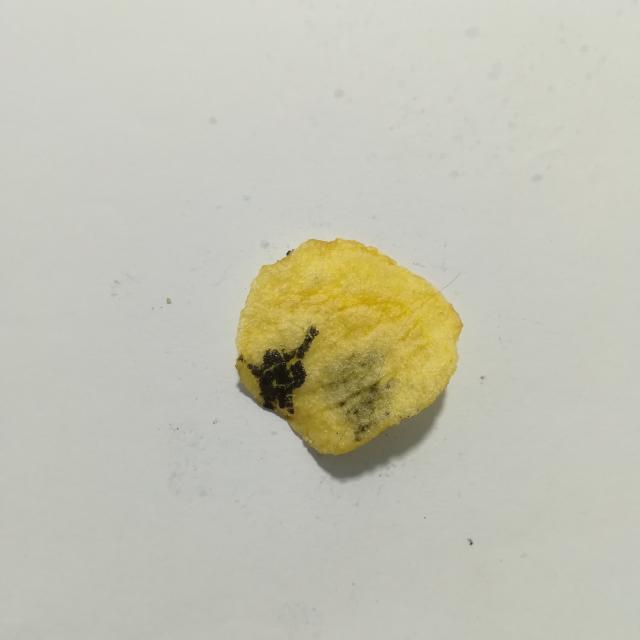chip: (236, 239, 463, 454)
damaged: (247, 326, 318, 414), (237, 355, 245, 363)
semi-damaged: (322, 348, 392, 440)
